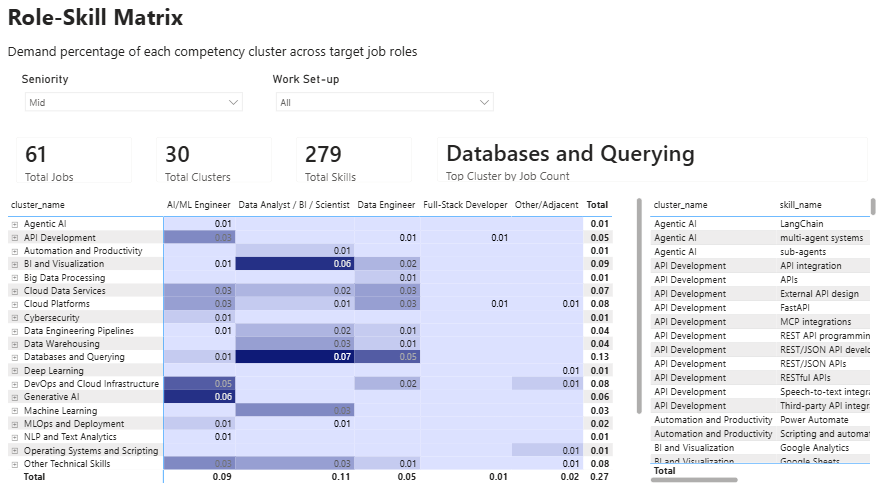

The dashboard page shown, as its layout file describes it:
{"tool":"powerbi","page":{"name":"Role-Skill Matrix","canvas":[1280,720],"ordinal":2},"visuals":[{"type":"slicer","title":"Seniority","fields":{"Values":["jobs_enriched.seniority_level_for_scoring"]},"box":[29.7,107,330.9,75.3],"z":0},{"type":"slicer","title":"Work Set-up","fields":{"Values":["jobs_enriched.work_setup_final"]},"box":[388.4,107,330.9,75.3],"z":1000},{"type":"textbox","box":[10.1,0,354.4,58.8],"z":2000},{"type":"textbox","box":[10.1,58.8,650.1,47],"z":3000},{"type":"cardVisual","fields":{"Data":["_Measures.Total Jobs"]},"box":[9.9,182.3,200,100],"z":4000},{"type":"cardVisual","fields":{"Data":["_Measures.Total Clusters"]},"box":[210,182.3,200.1,99.1],"z":5000},{"type":"cardVisual","fields":{"Data":["_Measures.Total Skills"]},"box":[410.2,182.3,200.1,99.1],"z":6000},{"type":"cardVisual","fields":{"Data":["_Measures.Top Cluster by Job Count"]},"box":[611.7,182.6,650,98.6],"z":7000},{"type":"pivotTable","fields":{"Rows":["clusters.cluster_name","skills.skill_name"],"Columns":["jobs_enriched.standardized_role"],"Values":["_Measures.Role Demand %"]},"box":[9.9,281.4,917.4,418.1],"z":8000},{"type":"tableEx","fields":{"Values":["skills.cluster_name","skills.skill_name","Sum(skills.skill_count)","_Measures.Jobs Mentioning Selected Skill","_Measures.Skill Demand %"]},"box":[927.6,281.2,334.2,418.1],"z":9000}]}

Visuals, with their boxes in screenshot pixels (x1, y1, x2, y2), scaled from the page's 1280x720 canvas onto the 884x496 screenshot:
"Seniority" slicer: x1=21, y1=74, x2=249, y2=126
"Work Set-up" slicer: x1=268, y1=74, x2=497, y2=126
textbox: x1=7, y1=0, x2=252, y2=41
textbox: x1=7, y1=41, x2=456, y2=73
cardVisual - _Measures.Total Jobs: x1=7, y1=126, x2=145, y2=194
cardVisual - _Measures.Total Clusters: x1=145, y1=126, x2=283, y2=194
cardVisual - _Measures.Total Skills: x1=283, y1=126, x2=421, y2=194
cardVisual - _Measures.Top Cluster by Job Count: x1=422, y1=126, x2=871, y2=194
pivotTable - clusters.cluster_name x skills.skill_name: x1=7, y1=194, x2=640, y2=482
tableEx - skills.cluster_name x skills.skill_name: x1=641, y1=194, x2=871, y2=482
